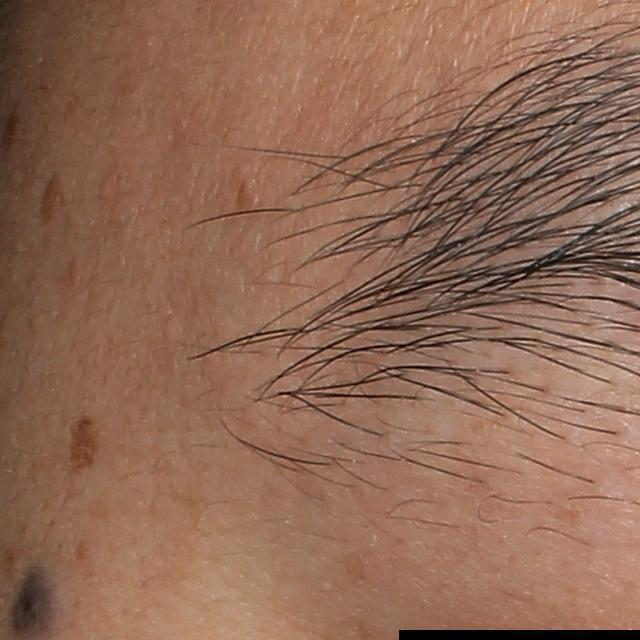melasma: (62, 408, 104, 475)
